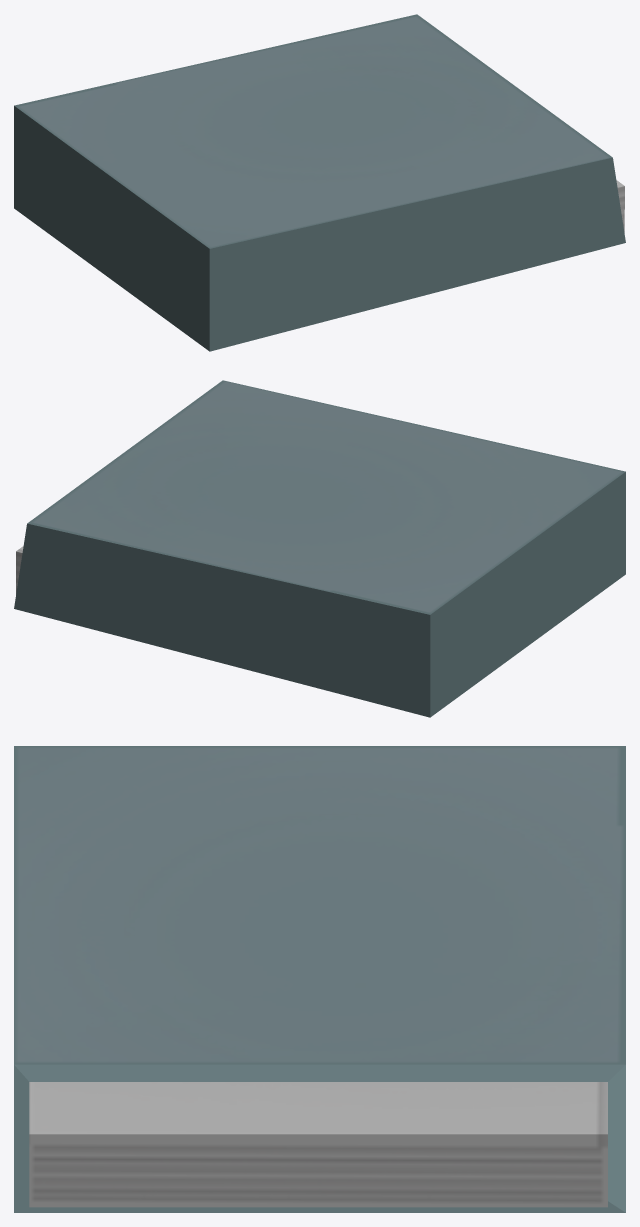
The model's file is Company_box.fbx.
The picture shows the model from 3 angles, top to bottom: view 1: azimuth 30°, elevation 25°; view 2: azimuth 150°, elevation 25°; view 3: azimuth 270°, elevation 25°; orthographic projection. The views are drawn at different scales.
Visible parts, largest first — view 1: Box205; view 2: Box205; view 3: Box205.
Part boxes in pixels (bbox=[...]): Box205: bbox=[14, 14, 625, 351]; Box205: bbox=[14, 380, 625, 717]; Box205: bbox=[14, 746, 625, 1212].
Bounding box in the file's own units: 0.5463 × 0.1277 × 0.4409.
Materials: 1 (1 with a texture image).
